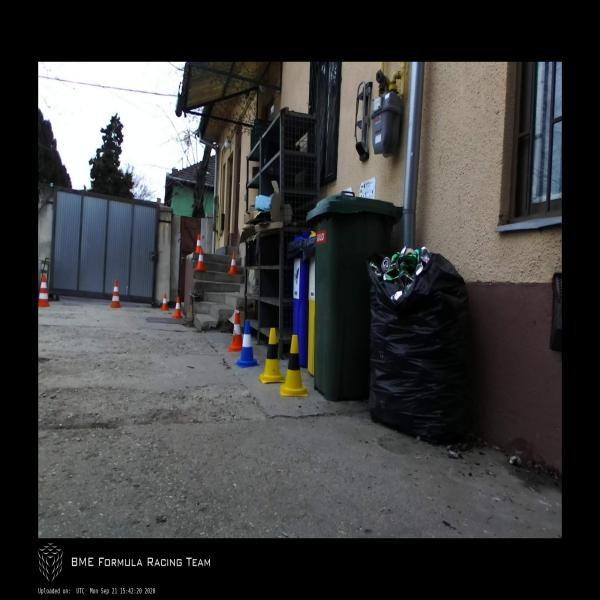blue_cone: (235, 320, 259, 368)
large_orange_cone: (38, 275, 50, 307), (110, 280, 121, 308)
orange_cone: (228, 313, 243, 352), (195, 248, 206, 271), (172, 296, 183, 318), (228, 254, 238, 275), (160, 294, 168, 310), (196, 234, 202, 253)
yellow_cone: (280, 335, 308, 396), (259, 326, 284, 384)
